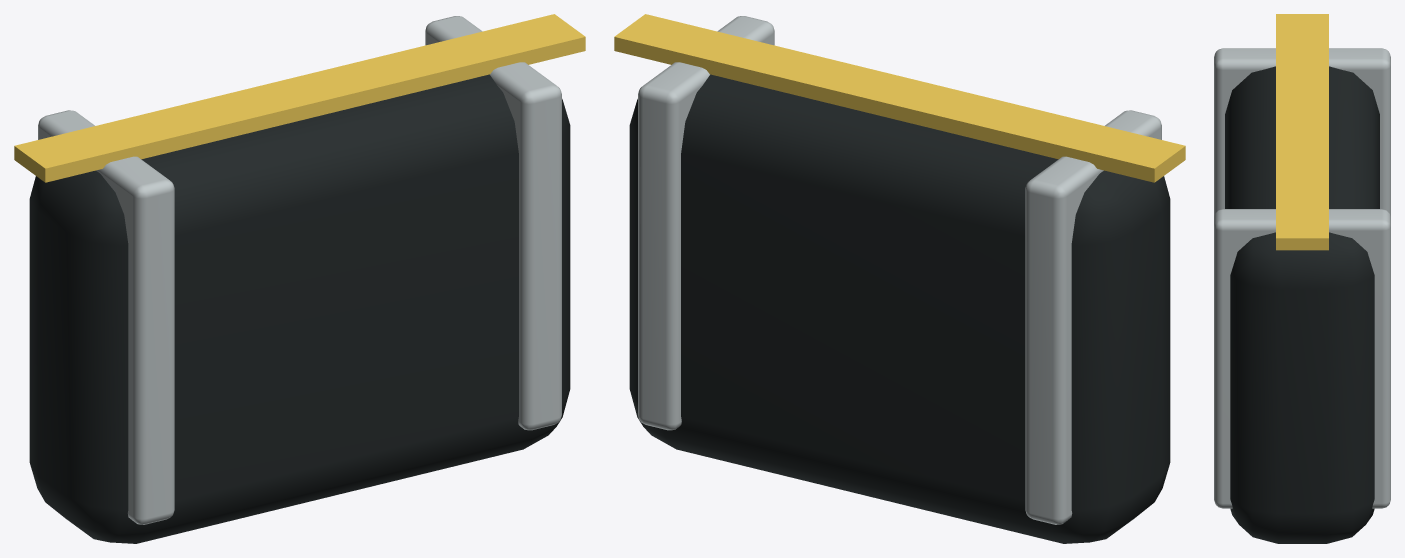
Rendered from passenger_berth_fender.glb.
3 views of the same model, side by side, from view 1: azimuth 30°, elevation 25°; view 2: azimuth 150°, elevation 25°; view 3: azimuth 270°, elevation 25° (orthographic). The views are drawn at different scales.
Visible parts, largest first — view 1: passenger_berth_fender__Fixed_Rubber, passenger_berth_fender__Fixed_Stainless, passenger_berth_fender__Safety yellow; view 2: passenger_berth_fender__Fixed_Rubber, passenger_berth_fender__Fixed_Stainless, passenger_berth_fender__Safety yellow; view 3: passenger_berth_fender__Fixed_Rubber, passenger_berth_fender__Fixed_Stainless, passenger_berth_fender__Safety yellow.
Boxes of the visible parts, left/top/right/bottom form: passenger_berth_fender__Fixed_Rubber: left=29, top=74, right=570, bottom=543; passenger_berth_fender__Fixed_Stainless: left=38, top=16, right=561, bottom=524; passenger_berth_fender__Safety yellow: left=14, top=14, right=585, bottom=182; passenger_berth_fender__Fixed_Rubber: left=629, top=74, right=1170, bottom=543; passenger_berth_fender__Fixed_Stainless: left=638, top=16, right=1161, bottom=524; passenger_berth_fender__Safety yellow: left=614, top=14, right=1185, bottom=182; passenger_berth_fender__Fixed_Rubber: left=1225, top=66, right=1379, bottom=543; passenger_berth_fender__Fixed_Stainless: left=1214, top=48, right=1390, bottom=508; passenger_berth_fender__Safety yellow: left=1276, top=14, right=1328, bottom=250.
Size of the model in its own units: 1.2 by 0.83 by 0.4.
